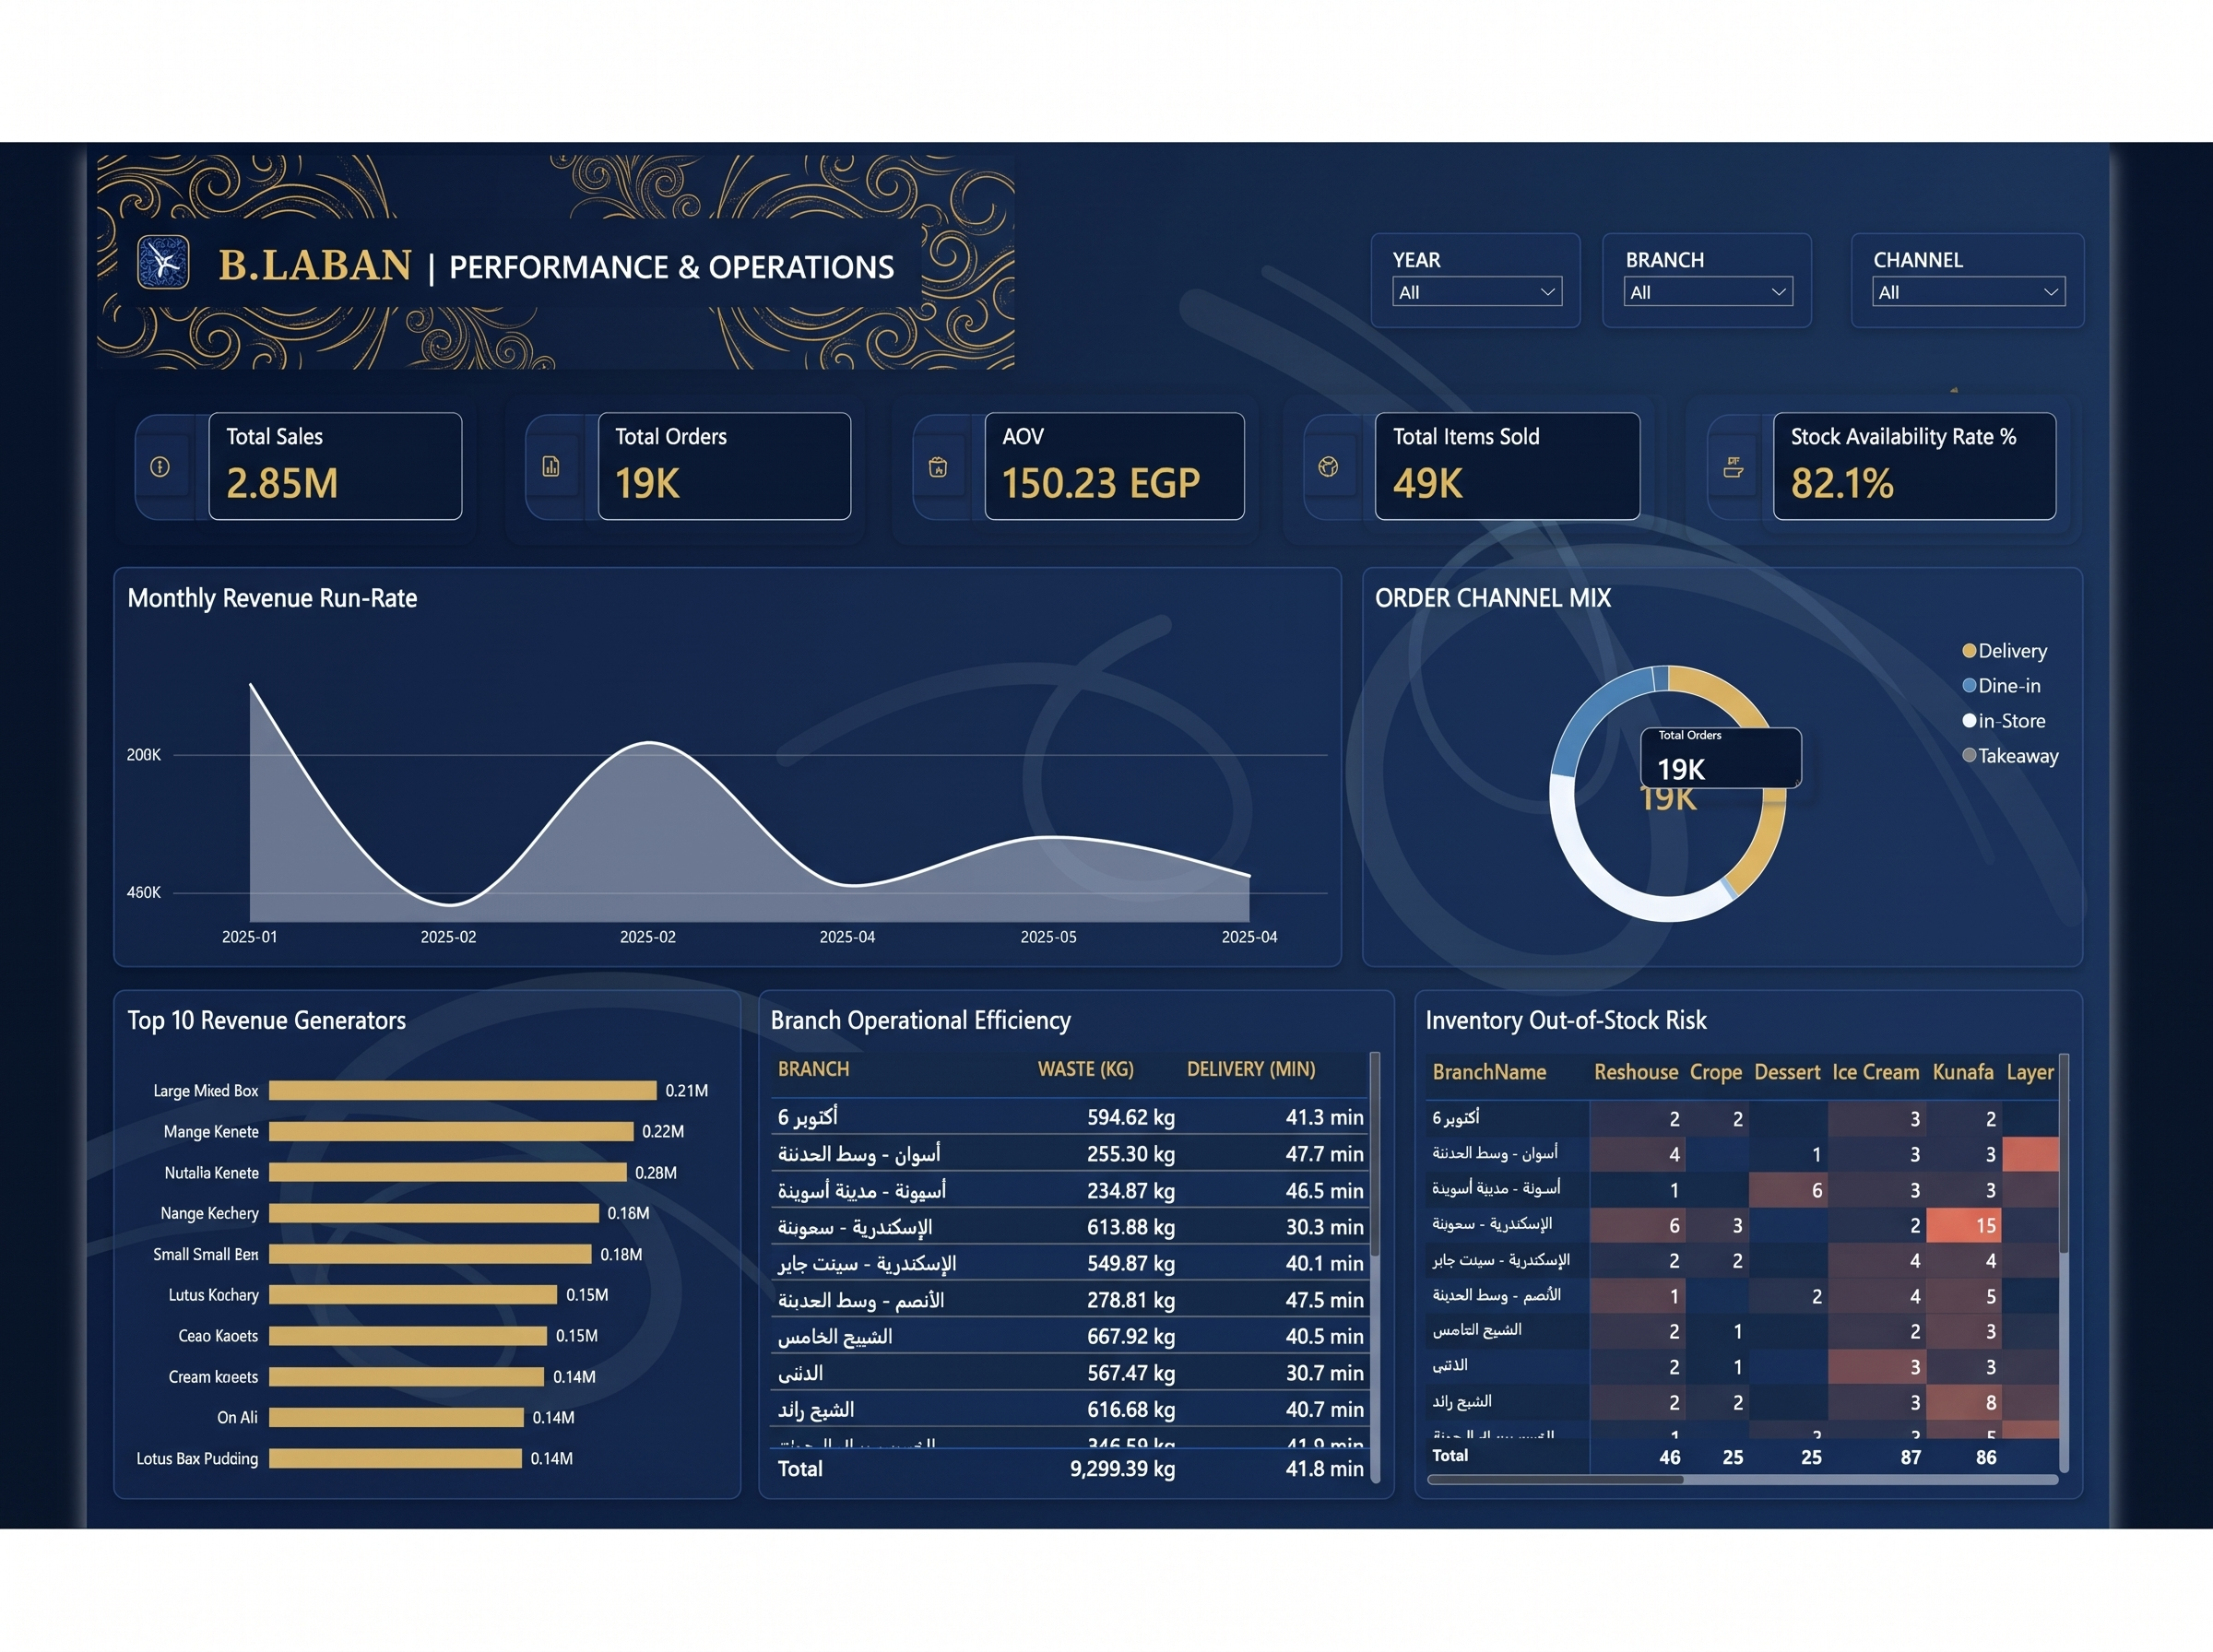

What the dashboard file says about the page in this screenshot:
{"tool":"powerbi","page":{"name":"B.Laban | Executive Overview","canvas":[1920,1080],"ordinal":1},"visuals":[{"type":"image","box":[24,18,68,68],"z":20},{"type":"textbox","box":[102.9,26.8,800.7,74.1],"z":30},{"type":"textbox","box":[108,66,640,22],"z":31},{"type":"slicer","fields":{"Values":["Dim_Date.Year"]},"box":[1261.9,18.2,183.4,79.9],"z":50},{"type":"slicer","fields":{"Values":["Dim_Branches.BranchName"]},"box":[1465.3,18.2,184,80],"z":50},{"type":"slicer","fields":{"Values":["Cleaned_Orders.Channel"]},"box":[1686,20,210,80],"z":50},{"type":"shape","box":[24,118,360,126],"z":100},{"type":"shape","box":[402,118,360,126],"z":103},{"type":"shape","box":[780,118,360,126],"z":106},{"type":"shape","box":[1158,118,360,126],"z":109},{"type":"shape","box":[1536,118,360,126],"z":112},{"type":"image","box":[44,157,48,48],"z":200},{"type":"image","box":[422,157,48,48],"z":203},{"type":"image","box":[800,157,48,48],"z":206},{"type":"image","box":[1178,157,48,48],"z":209},{"type":"image","box":[1556,157,48,48],"z":212},{"type":"cardVisual","fields":{"Data":["_Measures.Total Sales"]},"box":[102,126,270,110],"z":300},{"type":"cardVisual","fields":{"Data":["_Measures.Total Orders"]},"box":[480,126,270,110],"z":303},{"type":"cardVisual","fields":{"Data":["_Measures.AOV"]},"box":[858,126,270,110],"z":306},{"type":"cardVisual","fields":{"Data":["_Measures.Total Items Sold"]},"box":[1236,126,270,110],"z":309},{"type":"cardVisual","fields":{"Data":["_Measures.Stock Availability Rate %"]},"box":[1603.3,125.3,281.4,110.8],"z":312},{"type":"areaChart","title":"Monthly Revenue Run-Rate","fields":{"Category":["Dim_Date.Year-Month"],"Y":["_Measures.Total Sales"]},"box":[24,264,1192,338],"z":600},{"type":"donutChart","title":"ORDER CHANNEL MIX","fields":{"Category":["Cleaned_Orders.Channel"],"Y":["_Measures.Total Orders"]},"box":[1234,264,662,338],"z":610},{"type":"barChart","title":"Top 10 Revenue Generators","fields":{"Category":["Products.ProductName_Standard_EN"],"Y":["_Measures.Total Sales"]},"box":[24,620,610,432],"z":620},{"type":"tableEx","title":"Branch Operational Efficiency","fields":{"Values":["Dim_Branches.BranchName","_Measures.Total Waste Kg","_Measures.Avg Delivery Time Mins"]},"box":[652,620,610,432],"z":630},{"type":"pivotTable","title":"Inventory Out-of-Stock Risk","fields":{"Columns":["Products.Category"],"Rows":["Dim_Branches.BranchName"],"Values":["_Measures.Out of Stock Count"]},"box":[1280,620,616,432],"z":640},{"type":"cardVisual","fields":{"Data":["_Measures.Total Orders"]},"box":[1480,390,170,72],"z":900}]}

Visuals, with their boxes on the page's 1920x1080 design canvas (x1, y1, x2, y2). These are canvas units, not pixel positions in the 2213x1652 screenshot, which may show the page scaled, cropped or inside an application window:
image: x1=24, y1=18, x2=92, y2=86
textbox: x1=103, y1=27, x2=904, y2=101
textbox: x1=108, y1=66, x2=748, y2=88
slicer - Dim_Date.Year: x1=1262, y1=18, x2=1445, y2=98
slicer - Dim_Branches.BranchName: x1=1465, y1=18, x2=1649, y2=98
slicer - Cleaned_Orders.Channel: x1=1686, y1=20, x2=1896, y2=100
shape: x1=24, y1=118, x2=384, y2=244
shape: x1=402, y1=118, x2=762, y2=244
shape: x1=780, y1=118, x2=1140, y2=244
shape: x1=1158, y1=118, x2=1518, y2=244
shape: x1=1536, y1=118, x2=1896, y2=244
image: x1=44, y1=157, x2=92, y2=205
image: x1=422, y1=157, x2=470, y2=205
image: x1=800, y1=157, x2=848, y2=205
image: x1=1178, y1=157, x2=1226, y2=205
image: x1=1556, y1=157, x2=1604, y2=205
cardVisual - _Measures.Total Sales: x1=102, y1=126, x2=372, y2=236
cardVisual - _Measures.Total Orders: x1=480, y1=126, x2=750, y2=236
cardVisual - _Measures.AOV: x1=858, y1=126, x2=1128, y2=236
cardVisual - _Measures.Total Items Sold: x1=1236, y1=126, x2=1506, y2=236
cardVisual - _Measures.Stock Availability Rate %: x1=1603, y1=125, x2=1885, y2=236
"Monthly Revenue Run-Rate" areaChart: x1=24, y1=264, x2=1216, y2=602
"ORDER CHANNEL MIX" donutChart: x1=1234, y1=264, x2=1896, y2=602
"Top 10 Revenue Generators" barChart: x1=24, y1=620, x2=634, y2=1052
"Branch Operational Efficiency" tableEx: x1=652, y1=620, x2=1262, y2=1052
"Inventory Out-of-Stock Risk" pivotTable: x1=1280, y1=620, x2=1896, y2=1052
cardVisual - _Measures.Total Orders: x1=1480, y1=390, x2=1650, y2=462
